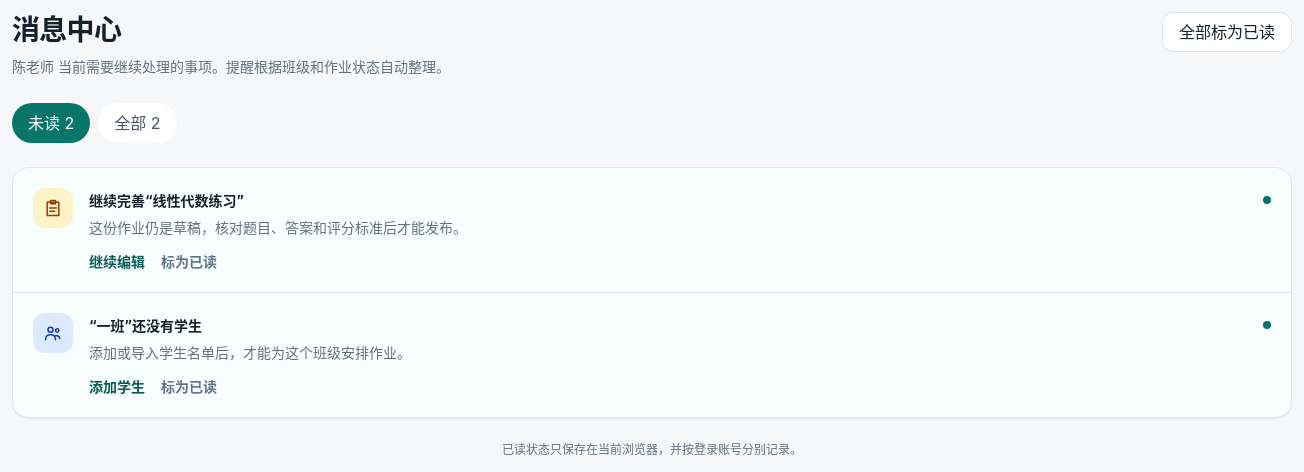
Test: can mark everything read and still show it in the all view
Expected: the text "继续完善“线性代数练习”" is shown, [89,192,244,209]
What coordinates should you click on to do the following:
click the button "全部标为已读"
I would click on:
 (1227, 32)
Its box is [1162,12,1292,52].
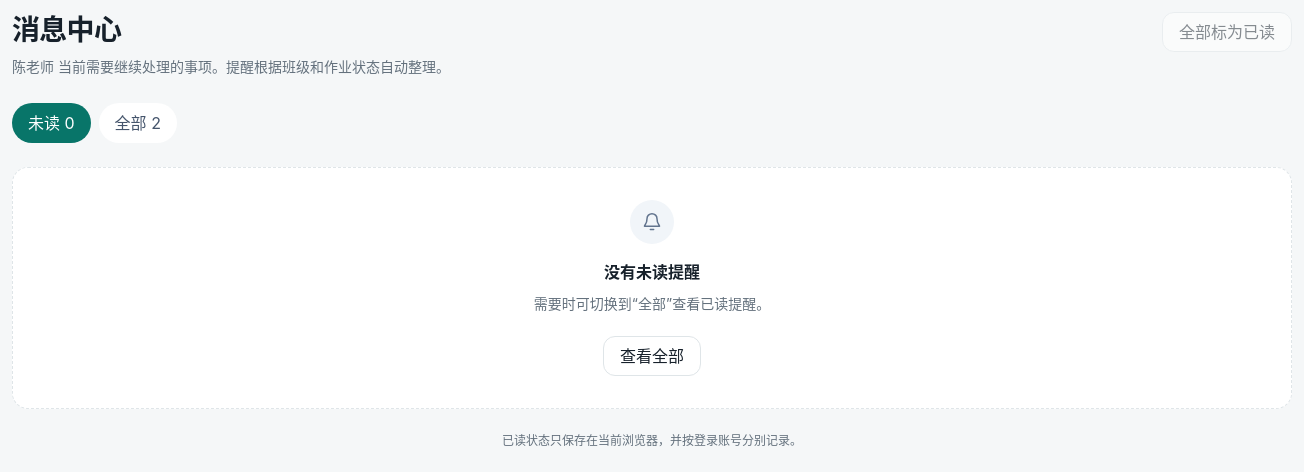
Result: the heading "没有未读提醒" is shown at [604,262,700,282]
What coordinates should you click on to do the following:
click the button "全部 2"
I would click on:
 (138, 123)
Its box is [99,103,177,143].
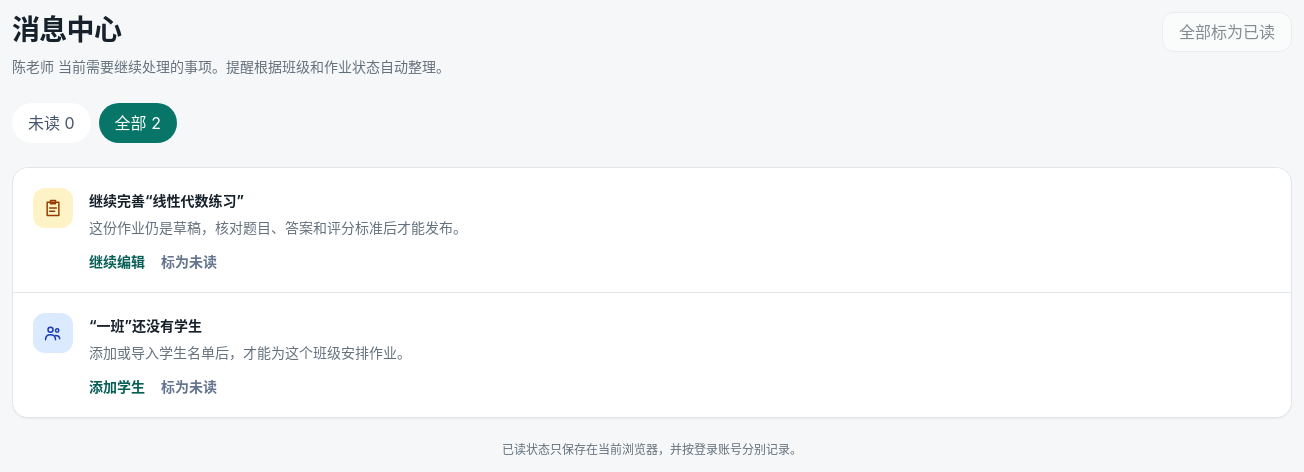
Result: the text "继续完善“线性代数练习”" is shown at [89,192,244,209]
Result: the number of buttons "标为未读" is 2 at [161,252,217,272]; [161,377,217,397]
